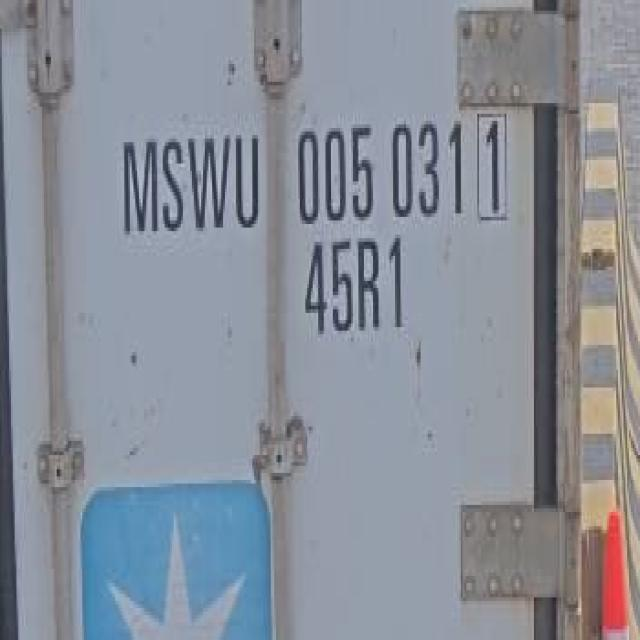dv: (469, 103, 512, 223)
owner: (116, 107, 261, 244)
serial: (292, 112, 466, 227)
size: (299, 233, 406, 341)
